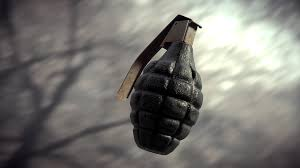bomb: (118, 15, 207, 156)
